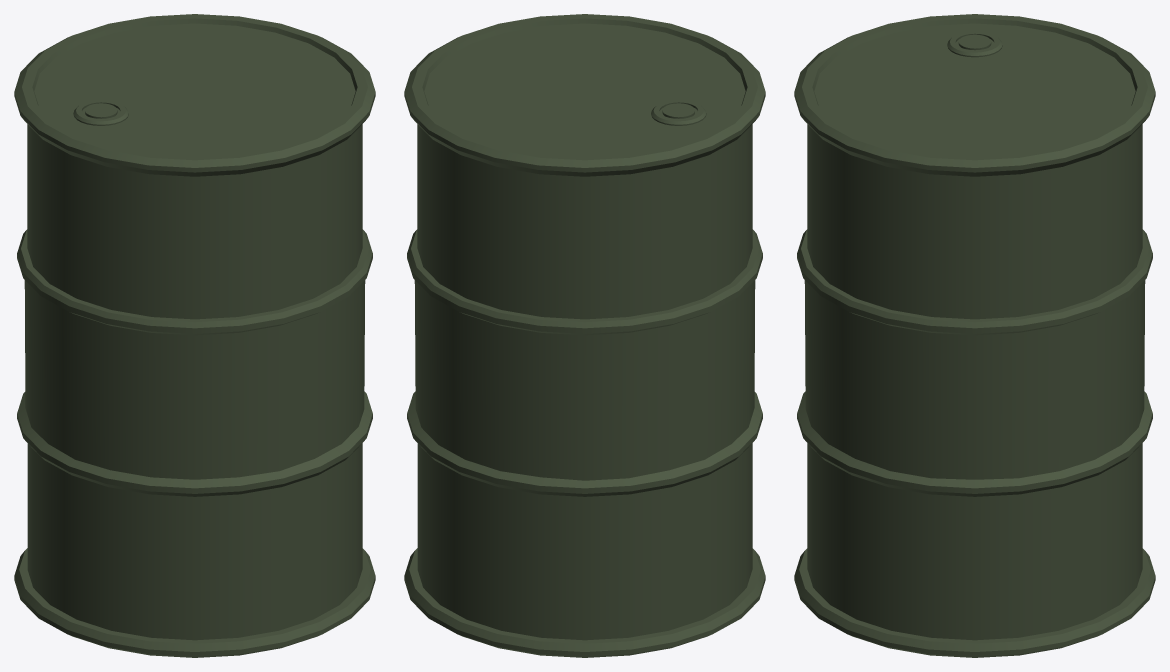
The model's file is barrel.fbx.
The picture shows the model from 3 angles, left to right: view 1: azimuth 30°, elevation 25°; view 2: azimuth 150°, elevation 25°; view 3: azimuth 270°, elevation 25°; orthographic projection.
Parts seen in each view (by area): view 1: Barrel; view 2: Barrel; view 3: Barrel.
Part boxes in pixels (left/top/right/bottom): Barrel: left=14, top=14, right=375, bottom=657; Barrel: left=404, top=14, right=765, bottom=657; Barrel: left=794, top=14, right=1155, bottom=657.
Bounding box in the file's own units: 58.68 × 89.19 × 58.68.
